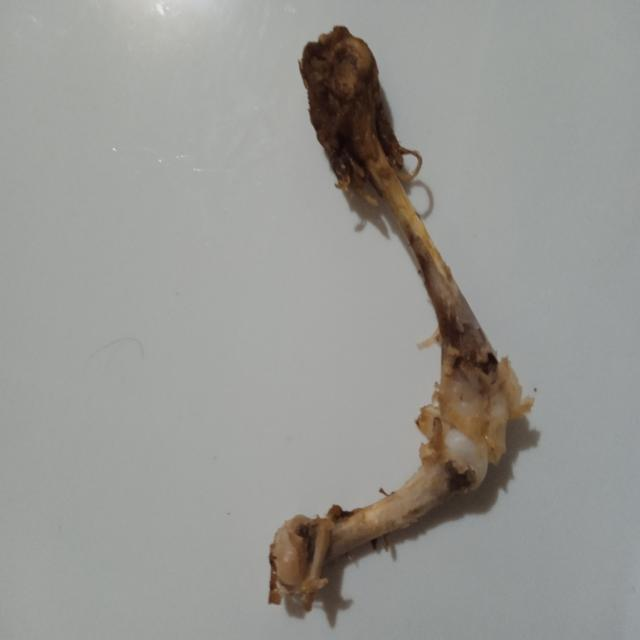bone: (253, 6, 547, 624)
